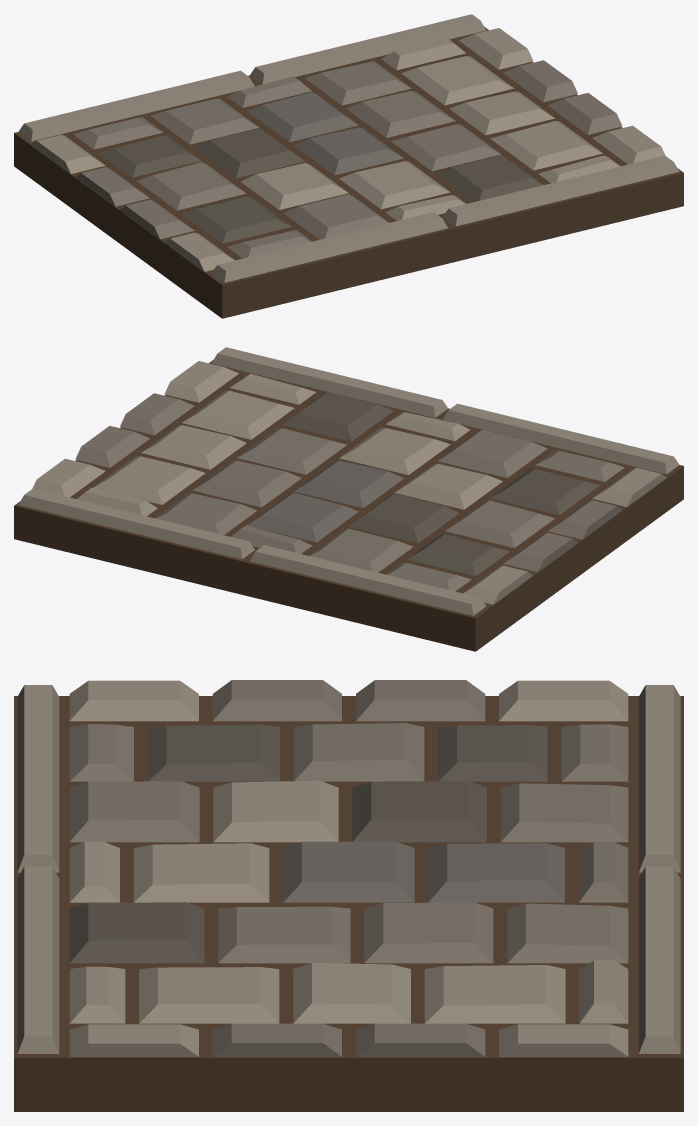
The model's file is mdvl_nature_cobble_01.glb.
The picture shows the model from 3 angles, top to bottom: view 1: azimuth 30°, elevation 25°; view 2: azimuth 150°, elevation 25°; view 3: azimuth 270°, elevation 25°; orthographic projection. The views are drawn at different scales.
Visible parts, largest first — view 1: mdvl_nature_cobble_01; view 2: mdvl_nature_cobble_01; view 3: mdvl_nature_cobble_01.
Boxes of the visible parts, left/top/right/bottom form: mdvl_nature_cobble_01: left=14, top=14, right=683, bottom=318; mdvl_nature_cobble_01: left=14, top=347, right=683, bottom=651; mdvl_nature_cobble_01: left=14, top=680, right=683, bottom=1111.
Size of the model in its own units: 1 by 0.0908 by 0.78.
Materials: 1 (1 with a texture image).
